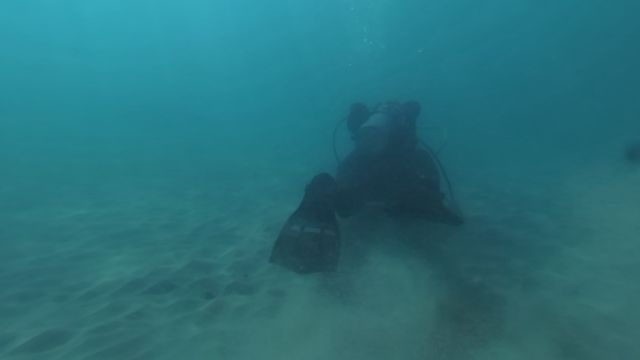Diver: (250, 57, 480, 288)
